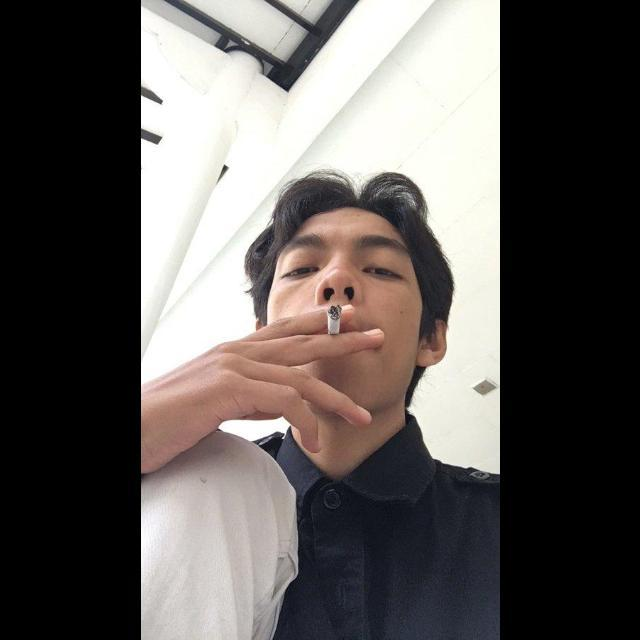rokok: (323, 300, 343, 336)
